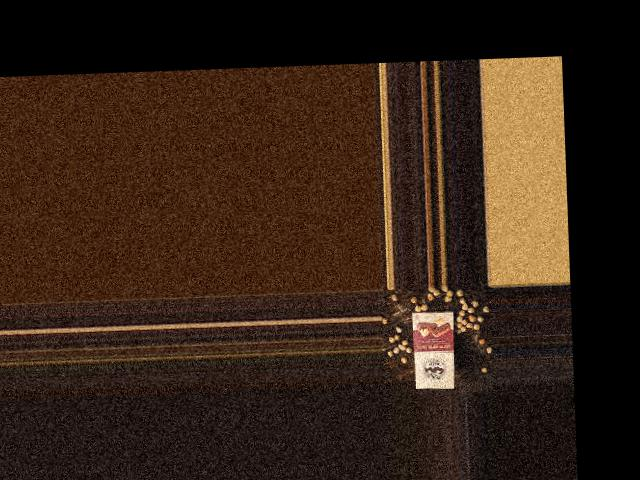chocolate: (409, 308, 460, 391)
